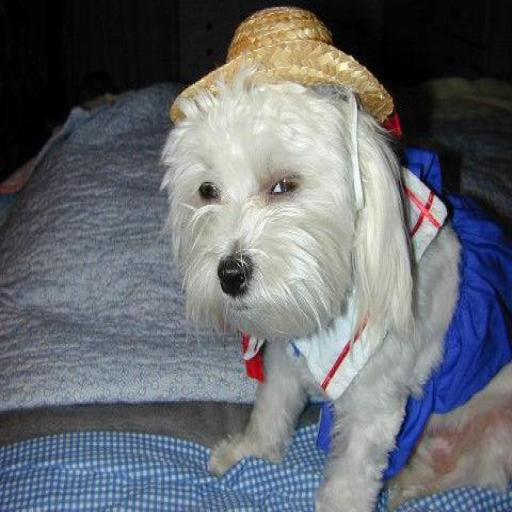dog_face: (157, 45, 420, 357)
